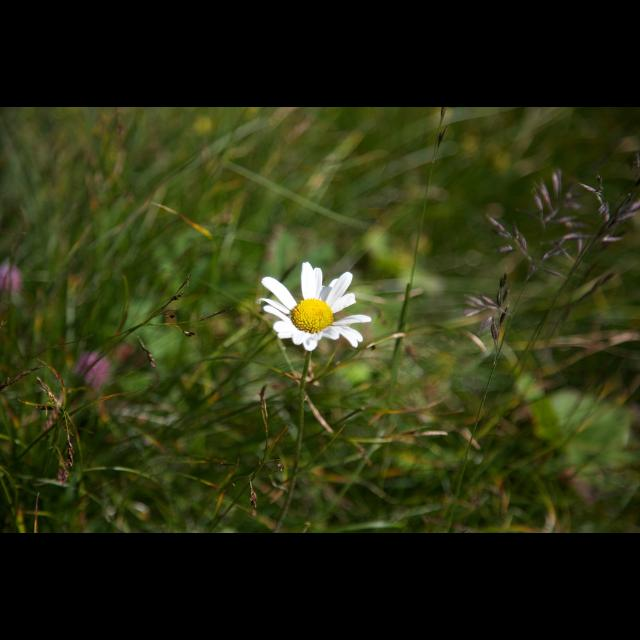Flower: (262, 266, 364, 354)
